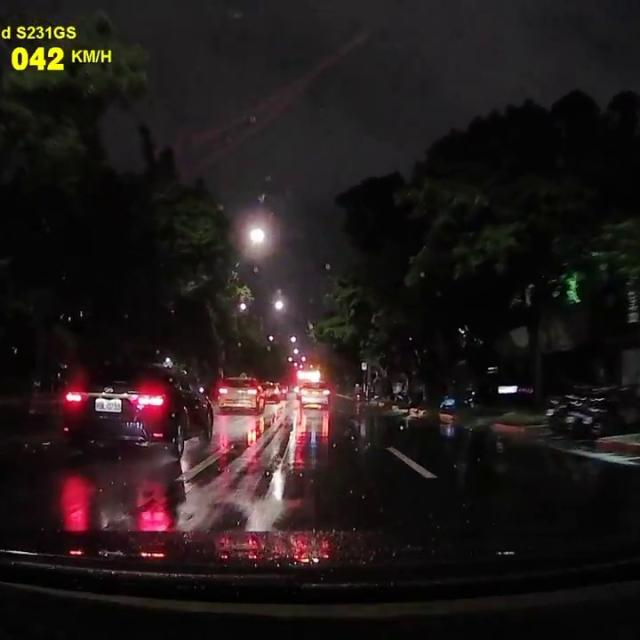Car: (61, 352, 211, 450), (212, 375, 265, 413), (297, 378, 329, 411), (258, 379, 285, 401)
